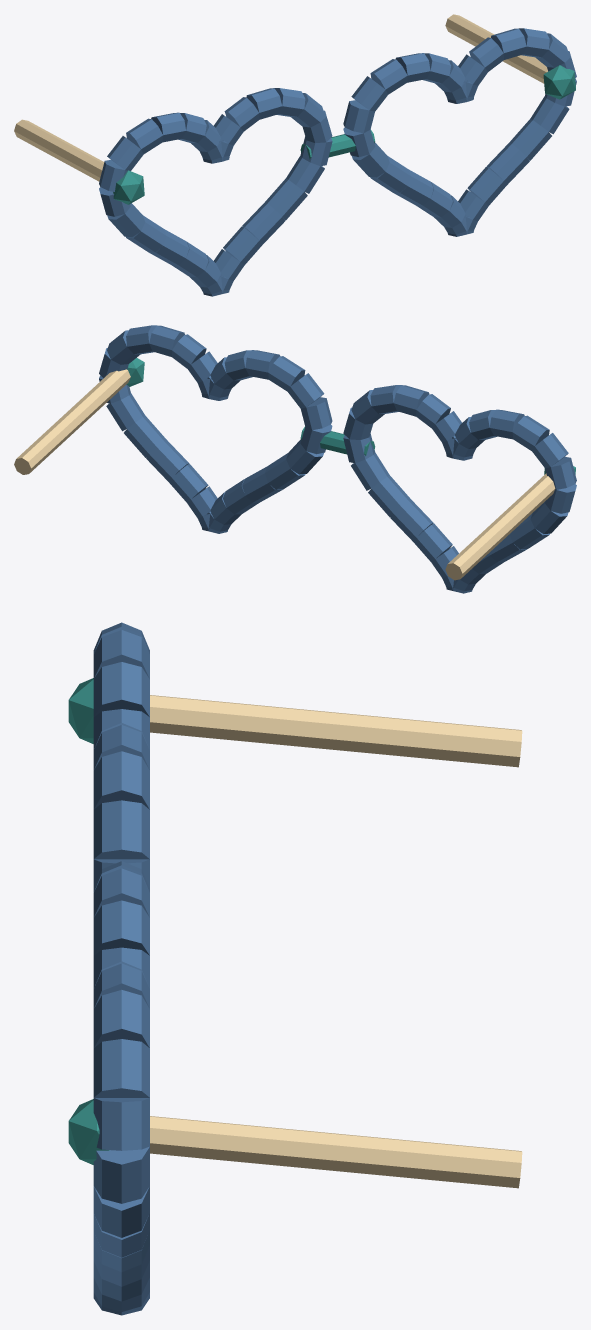
The model's file is eyewear_heart.glb.
The picture shows the model from 3 angles, top to bottom: view 1: azimuth 30°, elevation 25°; view 2: azimuth 150°, elevation 25°; view 3: azimuth 270°, elevation 25°; orthographic projection. The views are drawn at different scales.
Parts seen in each view (by area): view 1: wearable; view 2: wearable; view 3: wearable.
Part boxes in pixels (box(x1,y1,x2,y2)): wearable: box(14, 14, 576, 296); wearable: box(14, 325, 576, 593); wearable: box(68, 622, 522, 1315).
Bounding box in the file's own units: 0.6608 × 0.2512 × 0.2733.
